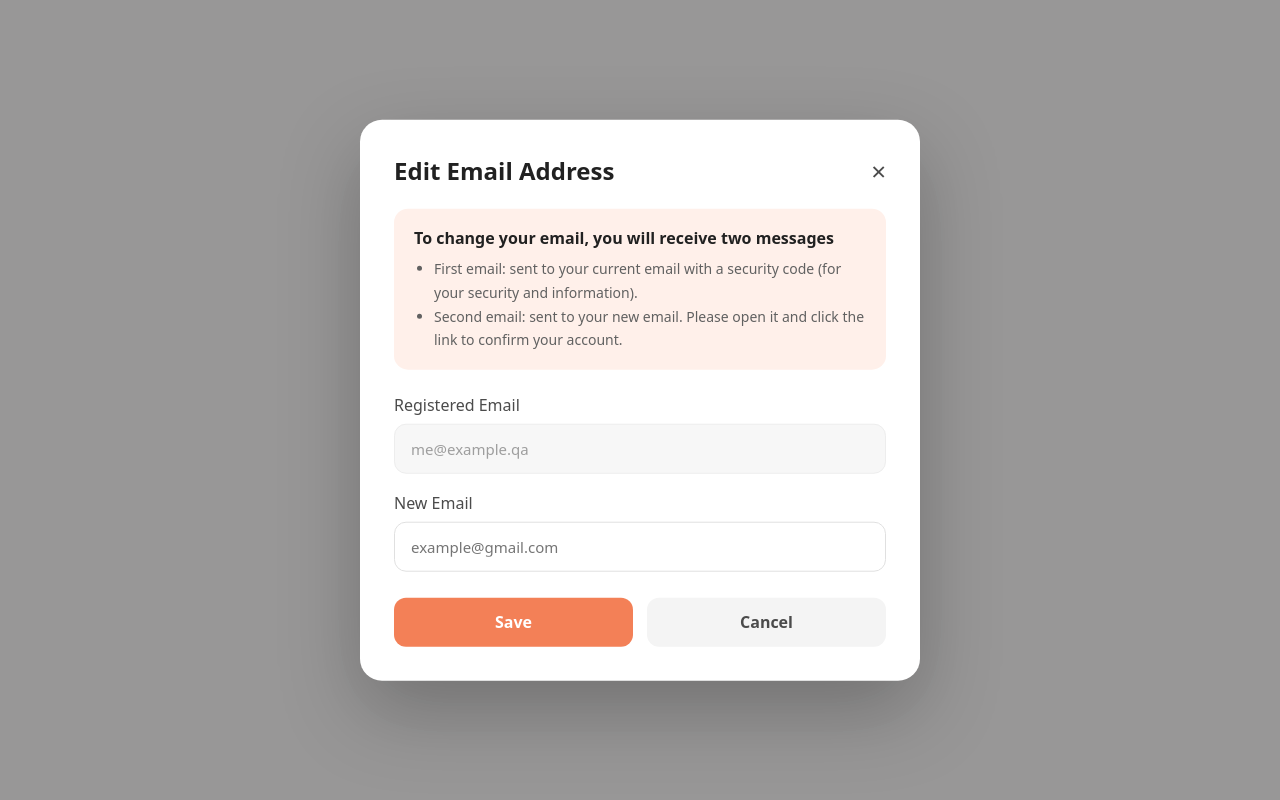
Test: EditEmailDialog › refuses the email the account already has, before asking for any code
The image size is (1280, 800).
Type "ME@example.qa" into the field labelled "New Email" at (640, 547), box [394,522,886,572]
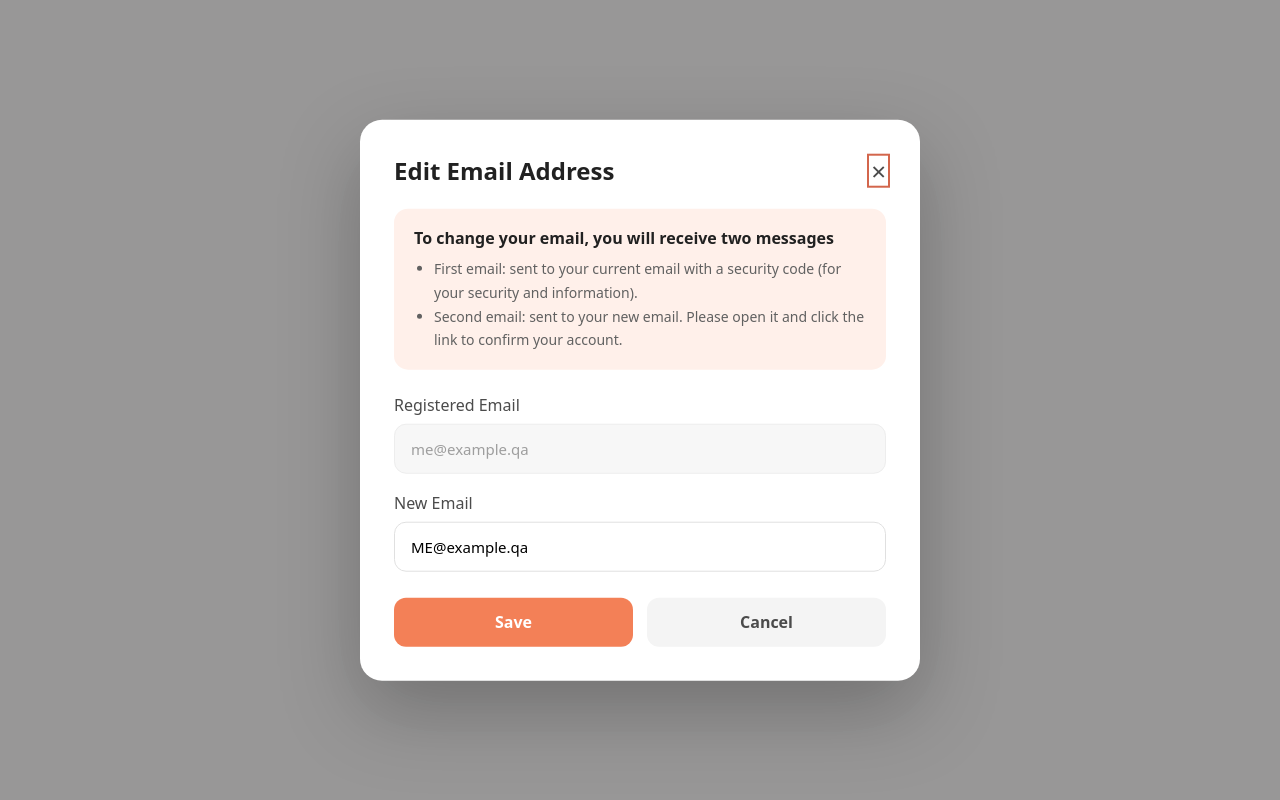
Click the button "Save" at (514, 622), box [394,598,633,646]
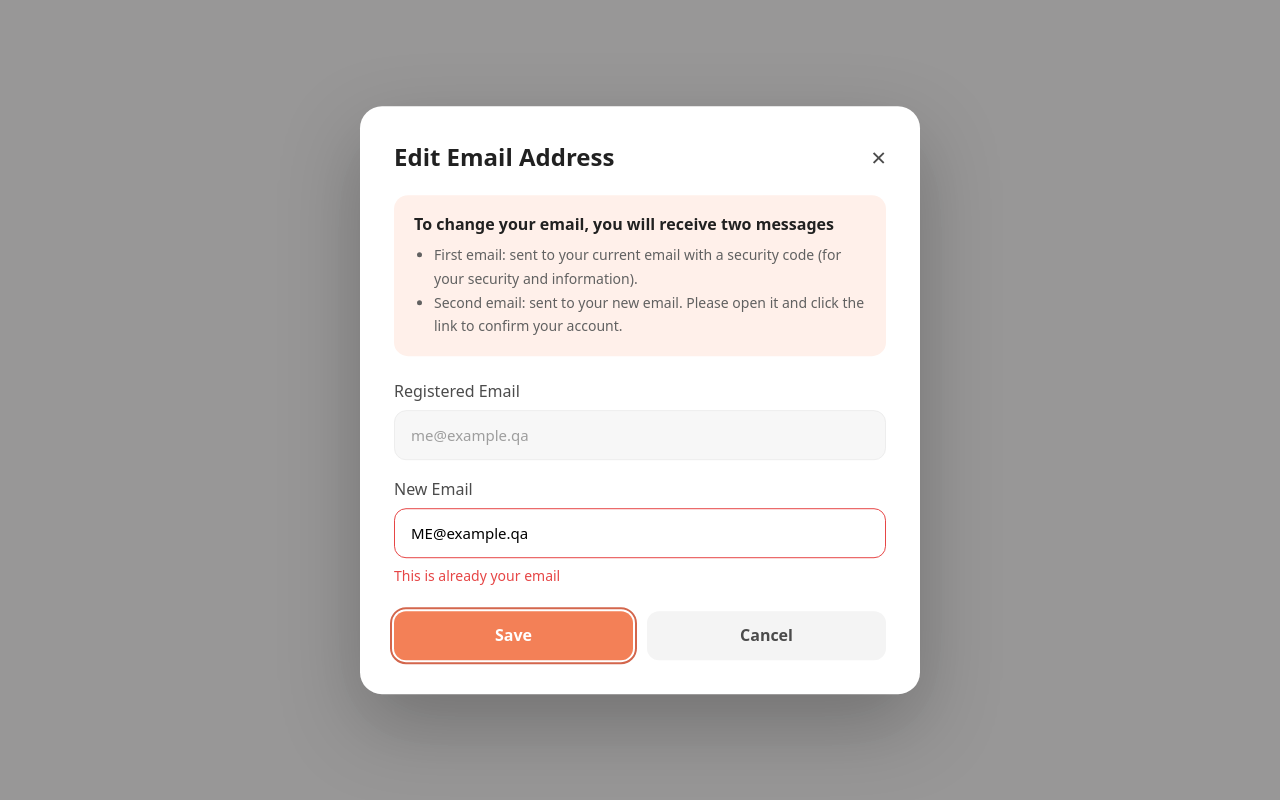
Now the text "This is already your email" is shown, box [394,566,560,585]
